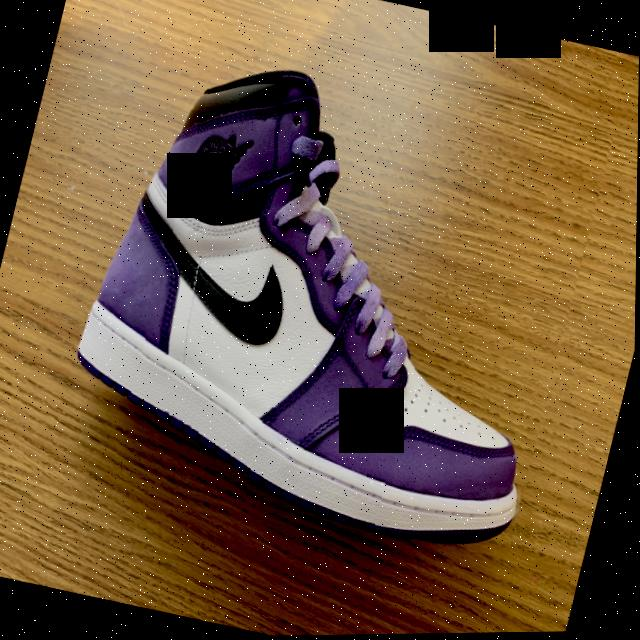shoe: (48, 26, 616, 567)
